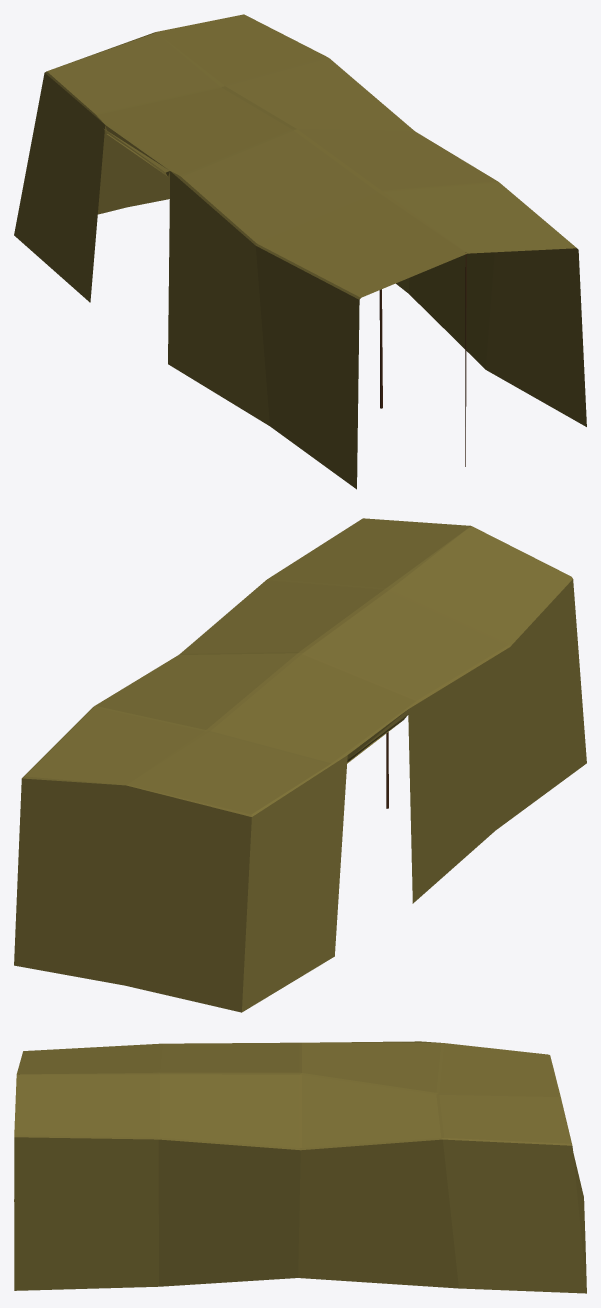
File: tent.fbx
The picture shows the model from 3 angles, top to bottom: view 1: azimuth 30°, elevation 25°; view 2: azimuth 150°, elevation 25°; view 3: azimuth 270°, elevation 25°; orthographic projection. The views are drawn at different scales.
Visible parts, largest first — view 1: tent; view 2: tent; view 3: tent.
Boxes of the visible parts, x1,y1,x2,y2 form: tent: (14, 14, 586, 489); tent: (14, 518, 586, 1012); tent: (14, 1041, 586, 1293).
Size of the model in its own units: 945 by 792 by 2279.
